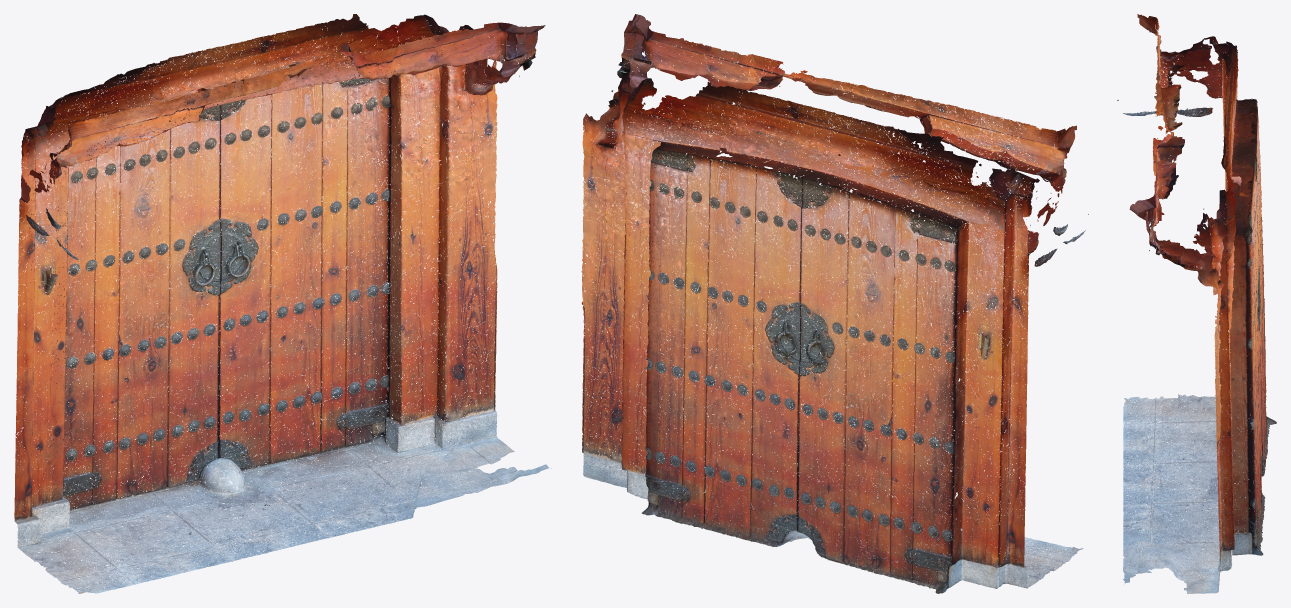
The model's file is daemun.glb.
The picture shows the model from 3 angles, left to right: view 1: azimuth 30°, elevation 25°; view 2: azimuth 150°, elevation 25°; view 3: azimuth 270°, elevation 25°; orthographic projection. The views are drawn at different scales.
Parts seen in each view (by area): view 1: Object_3, Object_6, Object_15, Object_4, Object_2, Object_8, Object_7, Object_12, Object_14, Object_11, Object_10, Object_16 (+4 smaller); view 2: Object_3, Object_7, Object_6, Object_14, Object_2, Object_10, Object_12, Object_15, Object_8, Object_4, Object_11, Object_13 (+4 smaller); view 3: Object_11, Object_15, Object_6, Object_8, Object_16, Object_14, Object_4, Object_2, Object_10, Object_3, Object_13, Object_5 (+4 smaller).
Boxes of the visible parts, x1=… form: Object_3: x1=45, y1=112, x2=497, y2=456; Object_6: x1=162, y1=14, x2=495, y2=303; Object_15: x1=21, y1=95, x2=496, y2=525; Object_4: x1=14, y1=43, x2=536, y2=577; Object_2: x1=18, y1=35, x2=497, y2=306; Object_8: x1=23, y1=15, x2=488, y2=593; Object_7: x1=16, y1=78, x2=291, y2=430; Object_12: x1=17, y1=22, x2=545, y2=582; Object_14: x1=93, y1=35, x2=483, y2=294; Object_11: x1=18, y1=147, x2=548, y2=522; Object_10: x1=59, y1=19, x2=499, y2=347; Object_16: x1=15, y1=28, x2=519, y2=561; Object_3: x1=581, y1=199, x2=992, y2=529; Object_7: x1=734, y1=148, x2=1038, y2=479; Object_6: x1=581, y1=68, x2=854, y2=381; Object_14: x1=595, y1=57, x2=959, y2=370; Object_2: x1=583, y1=46, x2=1063, y2=383; Object_10: x1=582, y1=33, x2=965, y2=425; Object_12: x1=583, y1=14, x2=1051, y2=588; Object_15: x1=582, y1=103, x2=1051, y2=530; Object_8: x1=590, y1=64, x2=1083, y2=555; Object_4: x1=618, y1=46, x2=1027, y2=588; Object_11: x1=632, y1=190, x2=1027, y2=534; Object_13: x1=582, y1=70, x2=1079, y2=587; Object_11: x1=1123, y1=104, x2=1263, y2=583; Object_15: x1=1133, y1=39, x2=1262, y2=571; Object_6: x1=1155, y1=129, x2=1259, y2=419; Object_8: x1=1123, y1=111, x2=1264, y2=568; Object_16: x1=1123, y1=86, x2=1276, y2=509; Object_14: x1=1153, y1=67, x2=1259, y2=432; Object_4: x1=1123, y1=216, x2=1266, y2=530; Object_2: x1=1153, y1=33, x2=1262, y2=422; Object_10: x1=1154, y1=52, x2=1261, y2=390; Object_3: x1=1216, y1=123, x2=1263, y2=555; Object_13: x1=1123, y1=14, x2=1266, y2=585; Object_5: x1=1123, y1=36, x2=1267, y2=553.
Size of the model in its own units: 3.24 by 3 by 1.11.
Materials: 4 (4 with a texture image).
